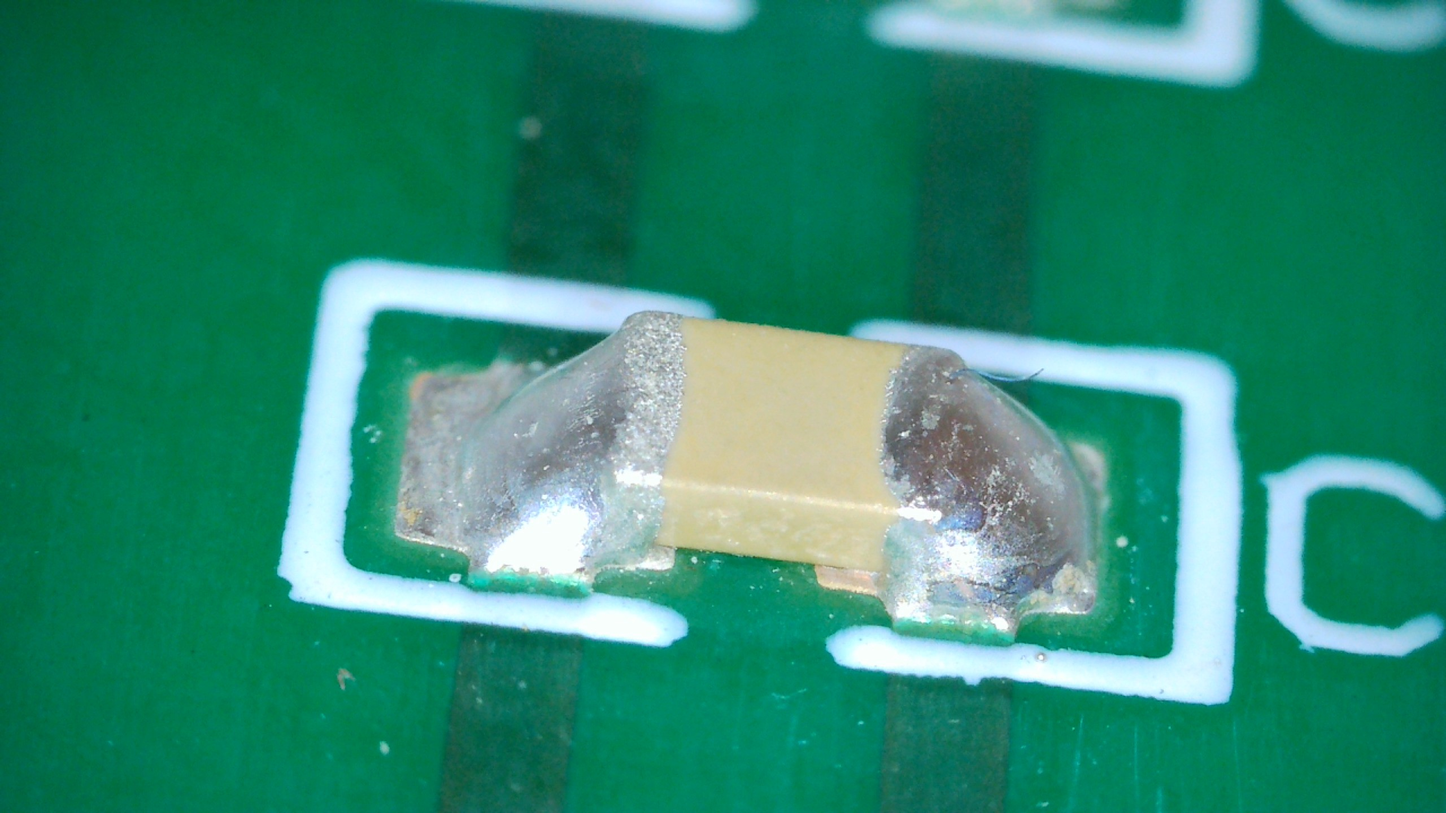NG: (404, 311, 682, 582), (877, 346, 1097, 638)
